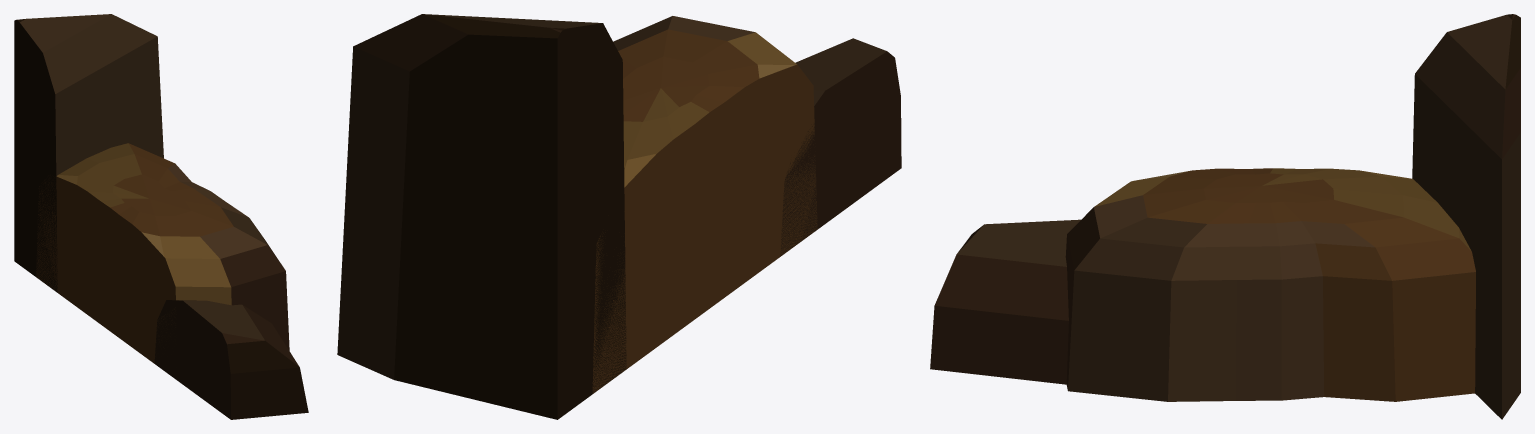
Rendered from newshr-271.glb.
3 renders of one model, left to right at view 1: azimuth 30°, elevation 25°; view 2: azimuth 150°, elevation 25°; view 3: azimuth 270°, elevation 25°, orthographic. The views are drawn at different scales.
Visible parts, largest first — view 1: newshr-271; view 2: newshr-271; view 3: newshr-271.
Part boxes in pixels (left/top/right/bottom): newshr-271: left=14, top=14, right=308, bottom=419; newshr-271: left=337, top=14, right=901, bottom=419; newshr-271: left=930, top=14, right=1520, bottom=419.
Size of the model in its own units: 0.4508 by 0.717 by 1.22.
